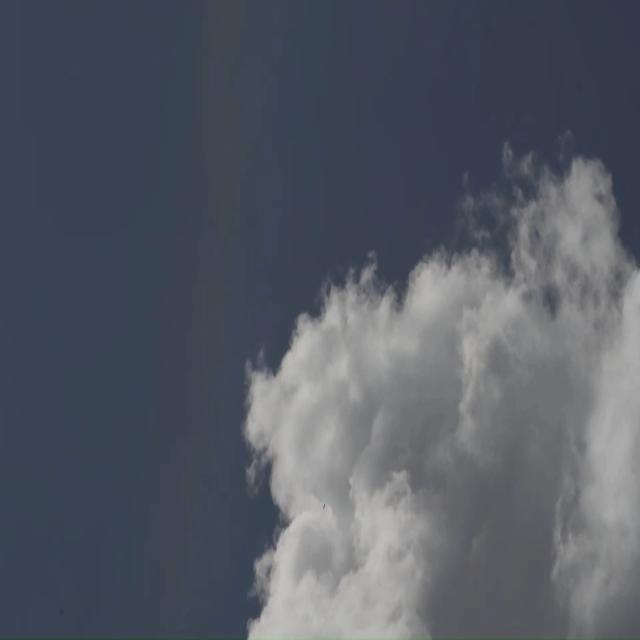Rocket: (323, 504, 325, 510)
